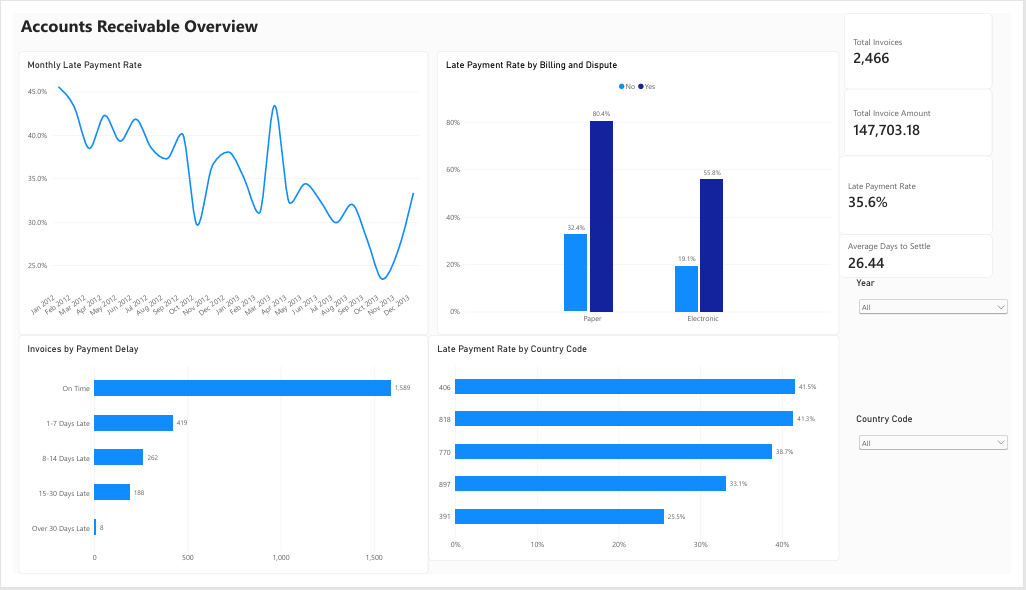

Layout of this report page (visuals, bound fields, positions):
{"tool":"powerbi","page":{"name":"AR Overview","canvas":[1920,1080],"ordinal":0},"visuals":[{"type":"lineChart","title":"Monthly Late Payment Rate","fields":{"Category":["Date_Table.Year Month"],"Y":["ar_transactions_clean.Late Payment Rate"]},"box":[10.1,73.1,788.7,546.8],"z":0},{"type":"clusteredColumnChart","title":"Late Payment Rate by Billing and Dispute","fields":{"Category":["ar_transactions_clean.paperless_bill"],"Series":["ar_transactions_clean.disputed"],"Y":["ar_transactions_clean.Late Payment Rate"]},"box":[816.4,73.1,773.5,546.8],"z":1000},{"type":"clusteredBarChart","title":"Invoices by Payment Delay","fields":{"Category":["ar_transactions_clean.payment_delay_band"],"Y":["ar_transactions_clean.Total Invoices"]},"box":[10.1,619.8,788.7,461.1],"z":2000},{"type":"barChart","title":"Late Payment Rate by Country Code","fields":{"Category":["ar_transactions_clean.country_code"],"Y":["ar_transactions_clean.Late Payment Rate"]},"box":[798.7,619.8,791.2,435.9],"z":3000},{"type":"cardVisual","title":"Total Invoices","fields":{"Data":["ar_transactions_clean.Total Invoices"]},"box":[1600,0,284.7,146.1],"z":4000},{"type":"cardVisual","fields":{"Data":["ar_transactions_clean.Total Invoice Amount"]},"box":[1600,146.1,284.7,128.5],"z":5000},{"type":"cardVisual","fields":{"Data":["ar_transactions_clean.Late Payment Rate"]},"box":[1589.9,274.6,294.8,151.2],"z":6000},{"type":"cardVisual","fields":{"Data":["ar_transactions_clean.Average Days to Settle"]},"box":[1589.9,425.8,294.8,83.1],"z":7000},{"type":"textbox","box":[10,0,789,150],"z":7001},{"type":"slicer","title":"Year","fields":{"Values":["Date_Table.Year"]},"box":[1622.7,509,297.3,209.1],"z":7002},{"type":"slicer","title":"Country Code","fields":{"Values":["ar_transactions_clean.country_code"]},"box":[1622.7,771,297.3,209.1],"z":7003}]}

Visuals, with their boxes in screenshot pixels (x1, y1, x2, y2), scaled from the page's 1920x1080 canvas onto the 1026x590 screenshot:
"Monthly Late Payment Rate" lineChart: [x1=5, y1=40, x2=427, y2=339]
"Late Payment Rate by Billing and Dispute" clusteredColumnChart: [x1=436, y1=40, x2=850, y2=339]
"Invoices by Payment Delay" clusteredBarChart: [x1=5, y1=339, x2=427, y2=589]
"Late Payment Rate by Country Code" barChart: [x1=427, y1=339, x2=850, y2=577]
"Total Invoices" cardVisual: [x1=855, y1=0, x2=1007, y2=80]
cardVisual - ar_transactions_clean.Total Invoice Amount: [x1=855, y1=80, x2=1007, y2=150]
cardVisual - ar_transactions_clean.Late Payment Rate: [x1=850, y1=150, x2=1007, y2=233]
cardVisual - ar_transactions_clean.Average Days to Settle: [x1=850, y1=233, x2=1007, y2=278]
textbox: [x1=5, y1=0, x2=427, y2=82]
"Year" slicer: [x1=867, y1=278, x2=1025, y2=392]
"Country Code" slicer: [x1=867, y1=421, x2=1025, y2=535]
